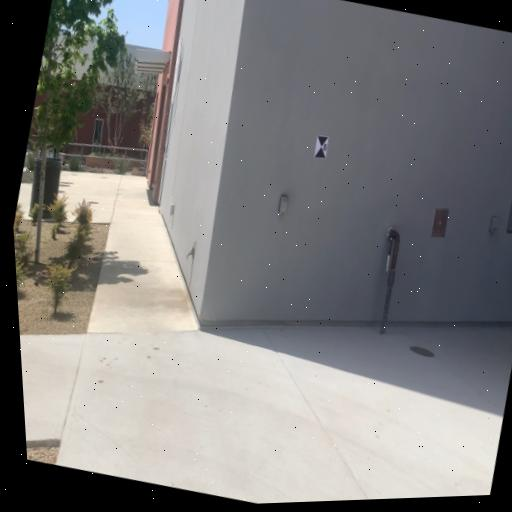target8: (313, 135, 331, 159)
